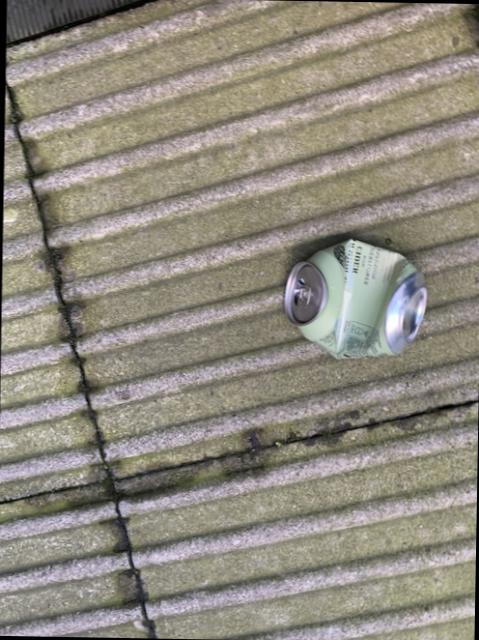metal: (282, 242, 424, 360)
